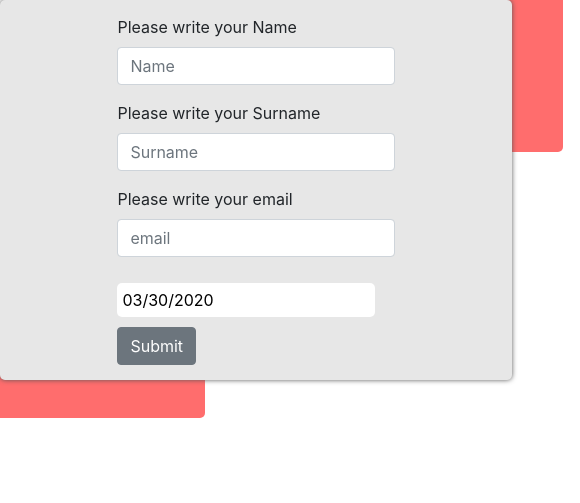
Test: test input surname › test surname input with space
In the field labelled "Name": (256, 66) [117,47,395,85], type "Marcin"
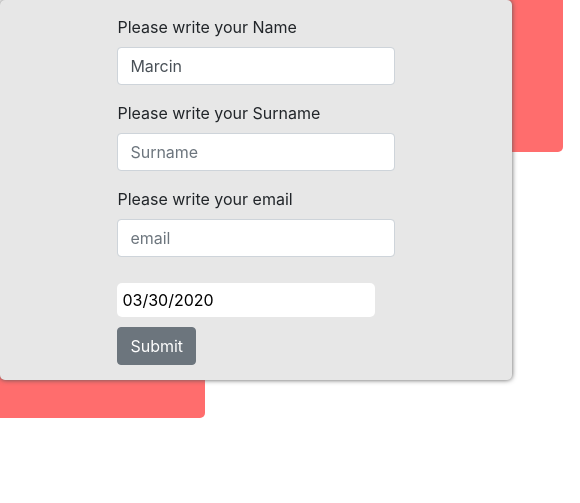
In the field labelled "Surname": (256, 152) [117,133,395,171], type "Surname sur"
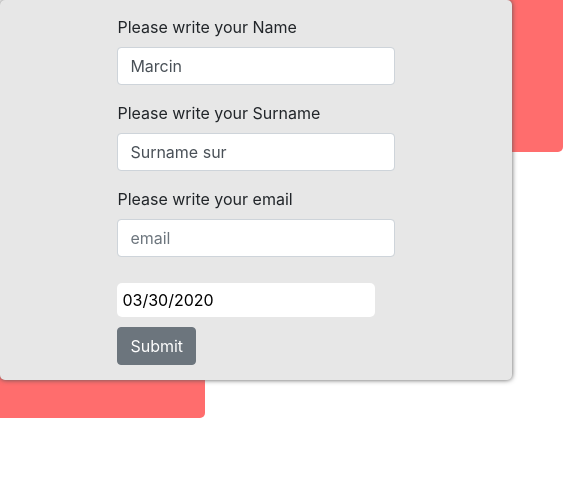
In the field labelled "email": (256, 238) [117,219,395,257], type "marcin@email.com"
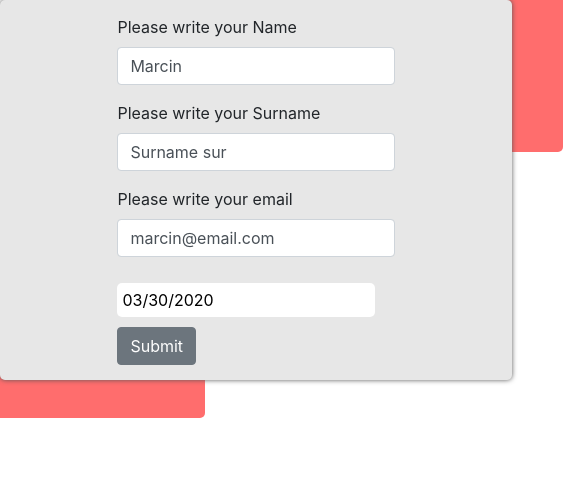
Click the button with aria-label "button": (157, 346) [117,327,196,365]
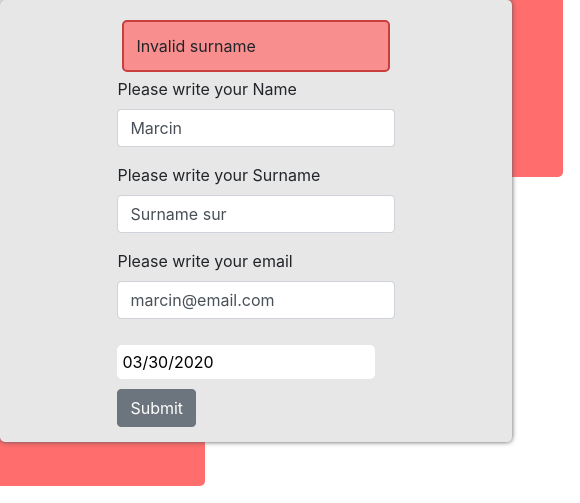
Result: the text "Invalid surname" is shown at [136,36,256,56]
